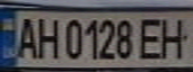0: (63, 16, 84, 60)
1: (81, 16, 100, 61)
2: (97, 16, 118, 61)
8: (115, 16, 139, 61)
A: (12, 13, 39, 60)
E: (136, 15, 169, 61)
H: (154, 15, 193, 60), (33, 13, 60, 60)
